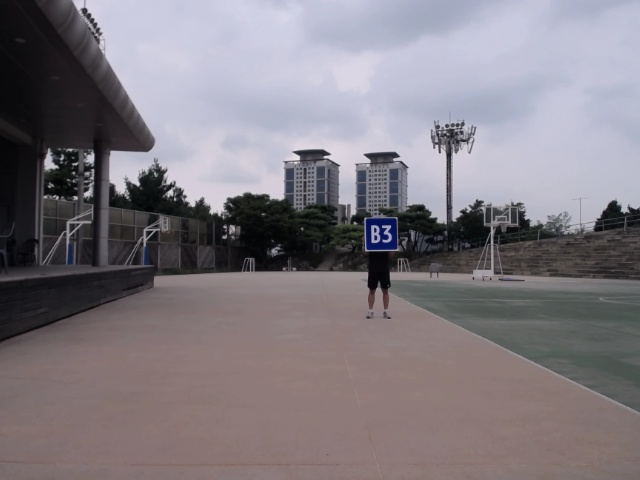delivery_b3: (363, 215, 401, 253)
